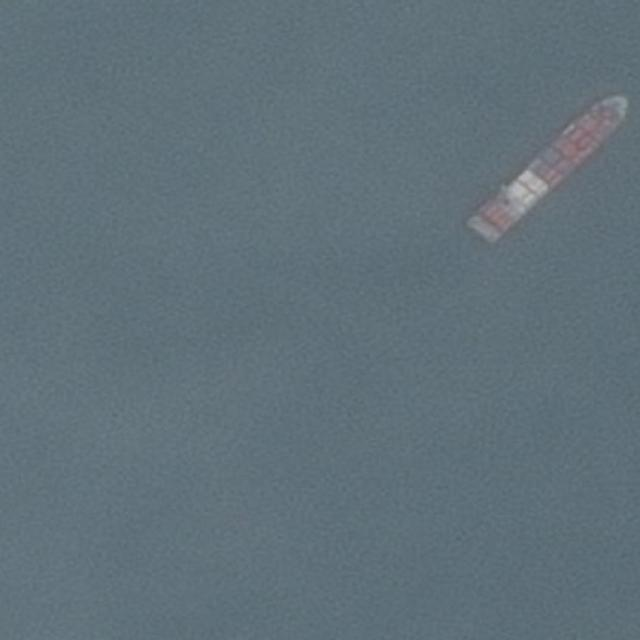Container Ship: (458, 82, 639, 250)
